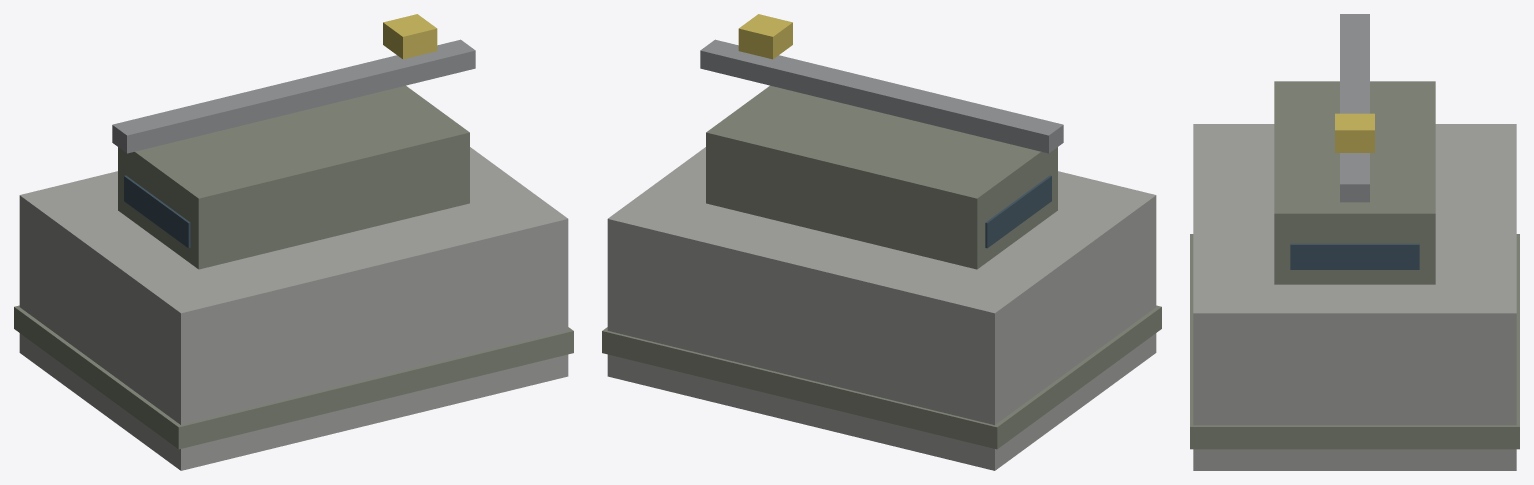
Rendered from chinese_factory.glb.
The picture shows the model from 3 angles, left to right: view 1: azimuth 30°, elevation 25°; view 2: azimuth 150°, elevation 25°; view 3: azimuth 270°, elevation 25°; orthographic projection.
Visible parts, largest first — view 1: hull, turret, stripe, barrel, radar, windows_l; view 2: hull, turret, stripe, barrel, radar, windows_l; view 3: hull, turret, stripe, barrel, windows_r, radar.
Boxes of the visible parts, left/top/right/bottom form: hull: left=19, top=147, right=568, bottom=470; turret: left=118, top=85, right=469, bottom=269; stripe: left=14, top=305, right=573, bottom=449; barrel: left=112, top=39, right=475, bottom=153; radar: left=383, top=14, right=437, bottom=59; windows_l: left=124, top=175, right=190, bottom=248; hull: left=607, top=147, right=1156, bottom=470; turret: left=706, top=85, right=1057, bottom=269; stripe: left=602, top=305, right=1161, bottom=449; barrel: left=700, top=39, right=1063, bottom=153; radar: left=738, top=14, right=792, bottom=59; windows_l: left=985, top=175, right=1051, bottom=248; hull: left=1193, top=124, right=1516, bottom=470; turret: left=1274, top=81, right=1435, bottom=284; stripe: left=1190, top=234, right=1519, bottom=449; barrel: left=1340, top=14, right=1369, bottom=202; windows_r: left=1290, top=243, right=1419, bottom=269; radar: left=1335, top=113, right=1374, bottom=152.
Size of the model in its own units: 18.36 by 13.8 by 13.26.
